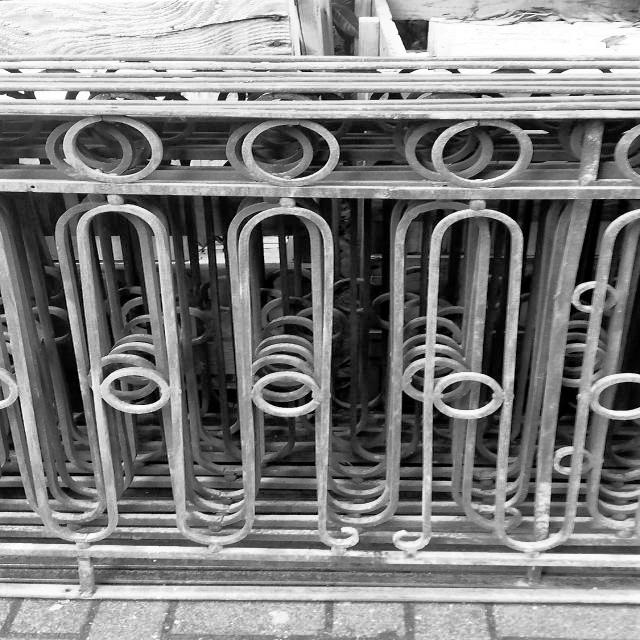fences: (16, 74, 638, 571)
